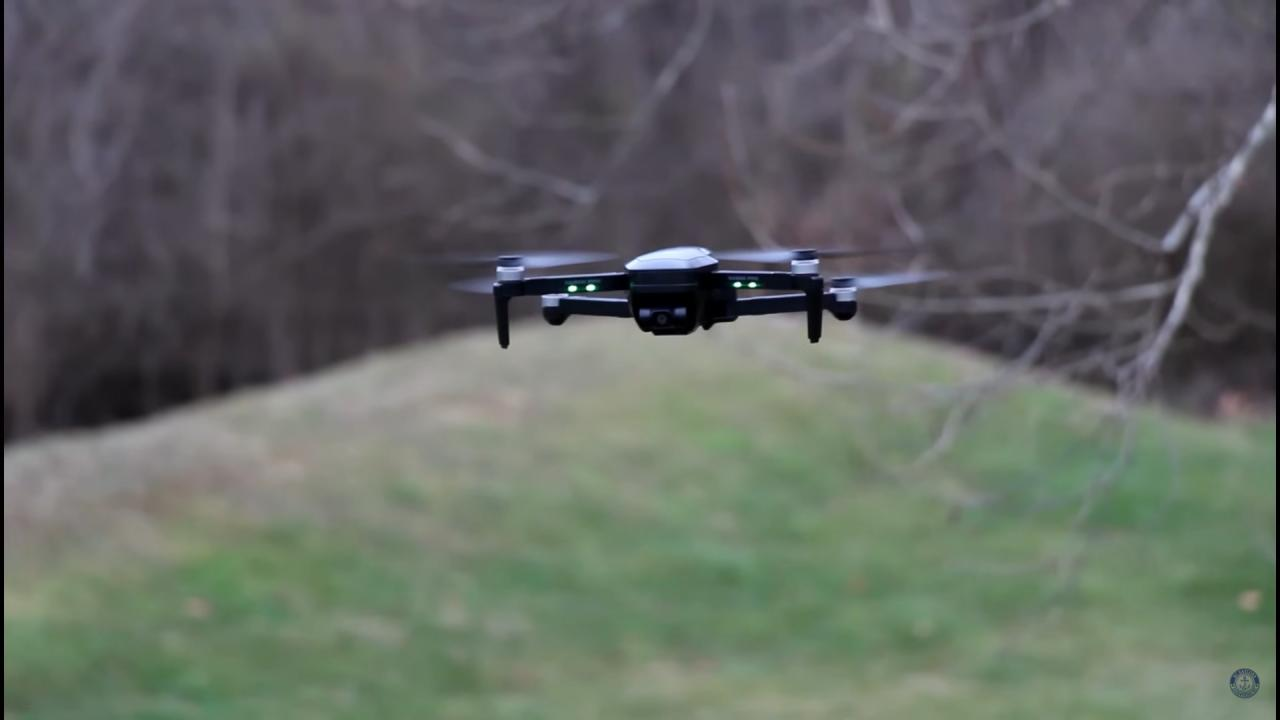Drone: (403, 237, 965, 358)
